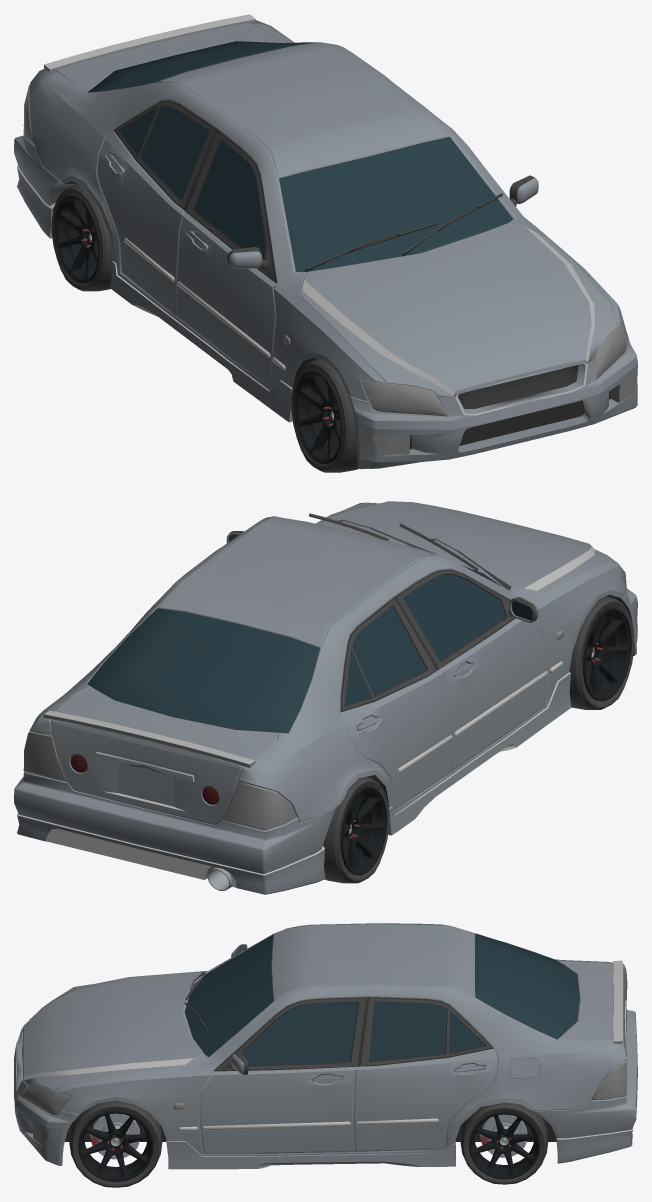
Rendered from is-xe10-development.glb.
3 views of the same model, one above another, from view 1: azimuth 30°, elevation 25°; view 2: azimuth 150°, elevation 25°; view 3: azimuth 270°, elevation 25° (orthographic). The views are drawn at different scales.
Visible parts, largest first — view 1: Object_4, Object_8, Object_5, Object_7, Object_16, Object_13, Object_49, Object_9, Object_6, Object_21, Object_54, Object_11 (+3 smaller); view 2: Object_4, Object_8, Object_5, Object_6, Object_13, Object_16, Object_49, Object_9, Object_21, Object_54, Object_11, Object_79 (+3 smaller); view 3: Object_4, Object_8, Object_5, Object_9, Object_16, Object_49, Object_21, Object_54, Object_11, Object_13, Object_6, Object_79 (+5 smaller).
Boxes of the visible parts, x1,y1,x2,y2 form: Object_4: (14, 20, 637, 469); Object_8: (88, 41, 513, 272); Object_5: (24, 22, 626, 416); Object_7: (65, 181, 612, 455); Object_16: (294, 371, 342, 463); Object_13: (23, 84, 626, 416); Object_49: (54, 195, 100, 283); Object_9: (114, 102, 533, 280); Object_6: (17, 166, 594, 395); Object_21: (291, 359, 359, 472); Object_54: (51, 184, 113, 291); Object_11: (113, 100, 534, 282); Object_4: (14, 501, 637, 894); Object_8: (88, 534, 532, 731); Object_5: (24, 502, 626, 841); Object_6: (17, 512, 594, 887); Object_13: (23, 563, 626, 830); Object_16: (583, 608, 631, 701); Object_49: (340, 787, 387, 875); Object_9: (229, 531, 536, 710); Object_21: (569, 596, 634, 709); Object_54: (323, 776, 389, 883); Object_11: (340, 569, 515, 712); Object_79: (44, 710, 255, 764); Object_4: (14, 923, 637, 1169); Object_8: (184, 934, 579, 1065); Object_5: (21, 924, 626, 1154); Object_9: (216, 944, 491, 1074); Object_16: (78, 1111, 153, 1182); Object_49: (468, 1112, 539, 1179); Object_21: (69, 1100, 162, 1187); Object_54: (460, 1102, 548, 1184); Object_11: (214, 997, 493, 1074); Object_13: (21, 971, 627, 1114); Object_6: (23, 1000, 633, 1139); Object_79: (613, 960, 622, 1041).
Bounding box in the file's own units: 2.02 × 1.39 × 4.4.
